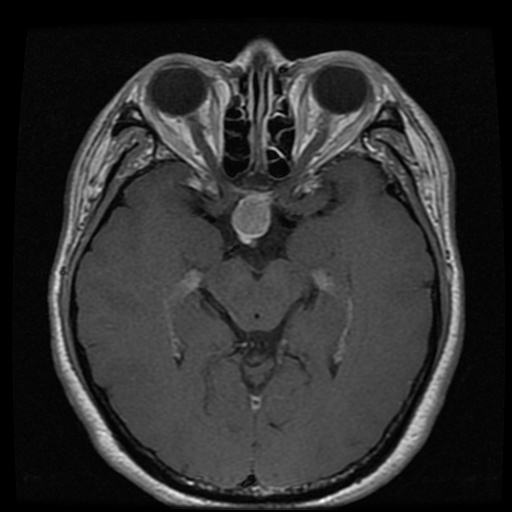pituitary: (232, 192, 271, 244)
